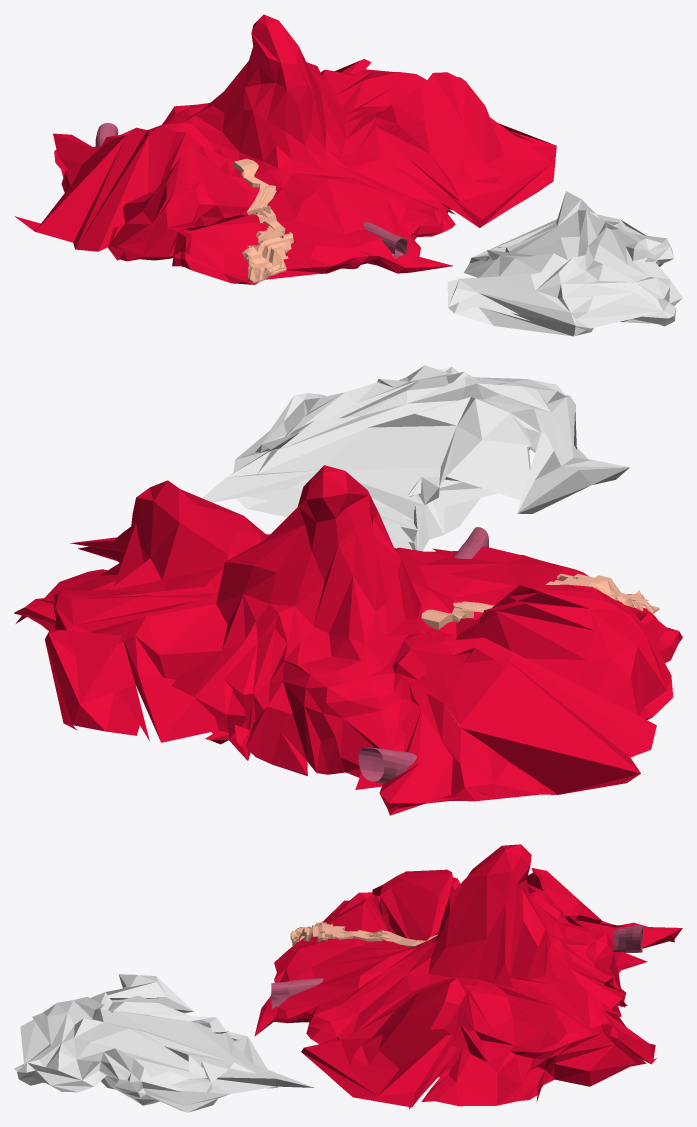
Rendered from path.fbx.
The picture shows the model from 3 angles, top to bottom: view 1: azimuth 30°, elevation 25°; view 2: azimuth 150°, elevation 25°; view 3: azimuth 270°, elevation 25°; orthographic projection. The views are drawn at different scales.
Visible parts, largest first — view 1: Icosphere, Icosphere.001, Cube, Cube.001, Cube.004; view 2: Icosphere, Icosphere.001, Cube.001, Cube, Cube.004; view 3: Icosphere, Icosphere.001, Cube.001, Cube.
Boxes of the visible parts, x1,y1,x2,y2 form: Icosphere: (14, 14, 556, 284); Icosphere.001: (447, 191, 682, 336); Cube: (242, 185, 293, 283); Cube.001: (95, 123, 409, 258); Cube.004: (234, 158, 269, 190); Icosphere: (14, 465, 682, 815); Icosphere.001: (202, 365, 629, 551); Cube.001: (358, 527, 488, 783); Cube: (453, 573, 659, 613); Cube.004: (421, 607, 473, 629); Icosphere: (254, 844, 682, 1108); Icosphere.001: (14, 974, 314, 1112); Cube.001: (270, 925, 642, 1008); Cube: (290, 922, 420, 947).
Size of the model in its own units: 1823 by 671 by 2254.
